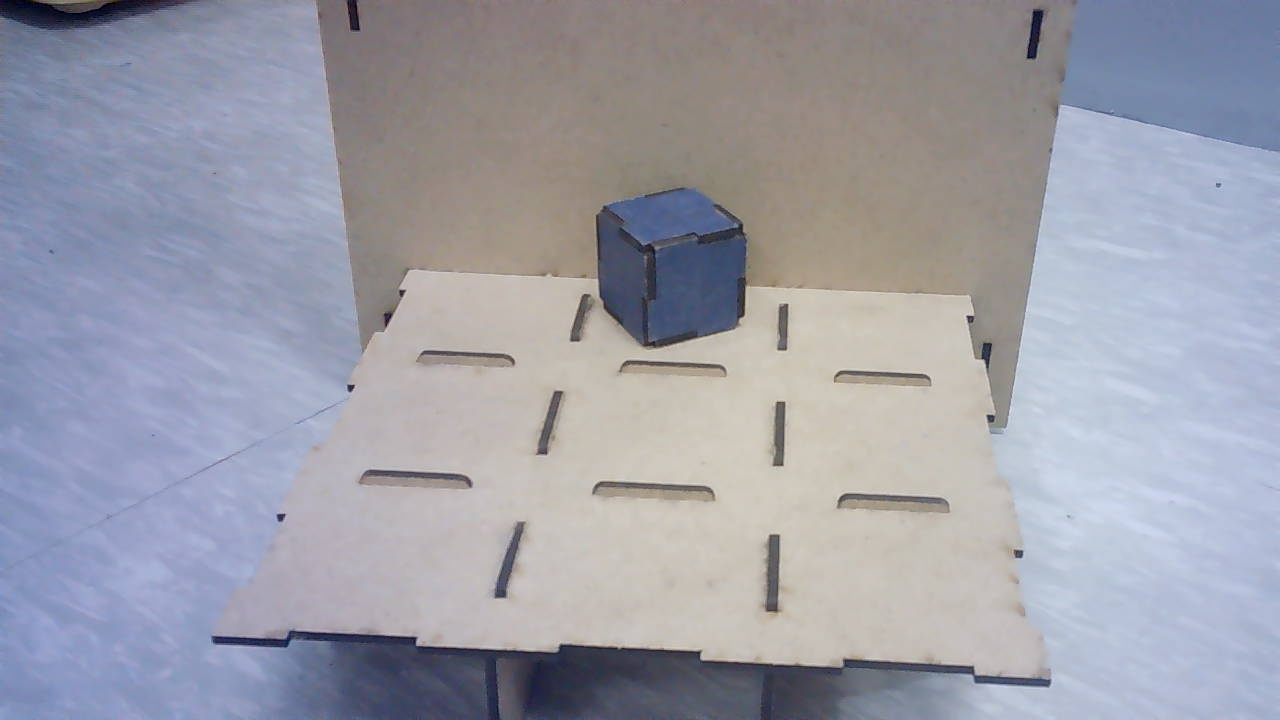blue: (591, 182, 752, 356)
